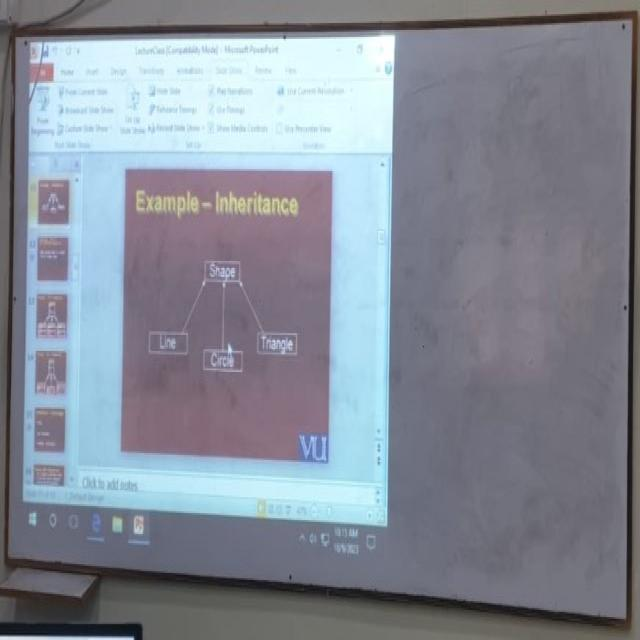Slide: (21, 31, 392, 566)
White-board: (8, 16, 635, 619)
